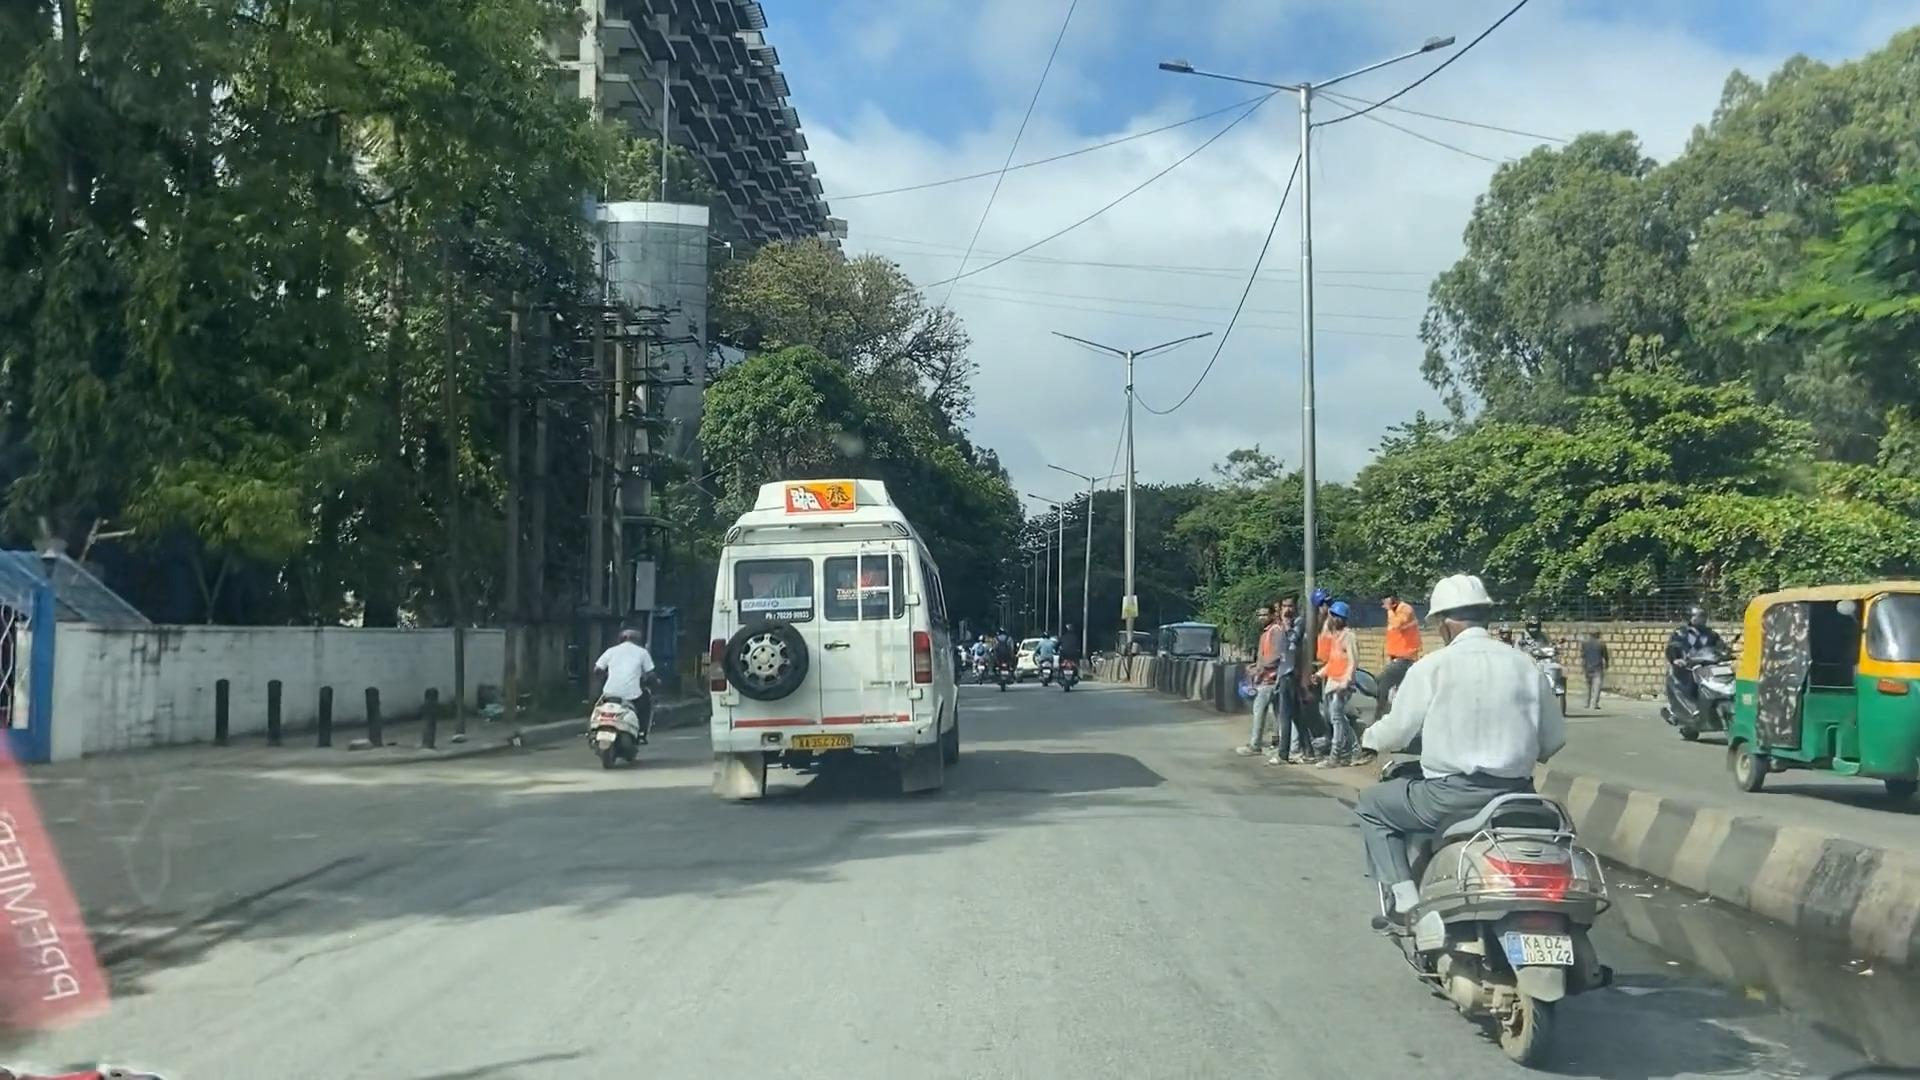HMV: (692, 443, 993, 812)
LMV: (1345, 575, 1631, 1051), (585, 621, 675, 773)
